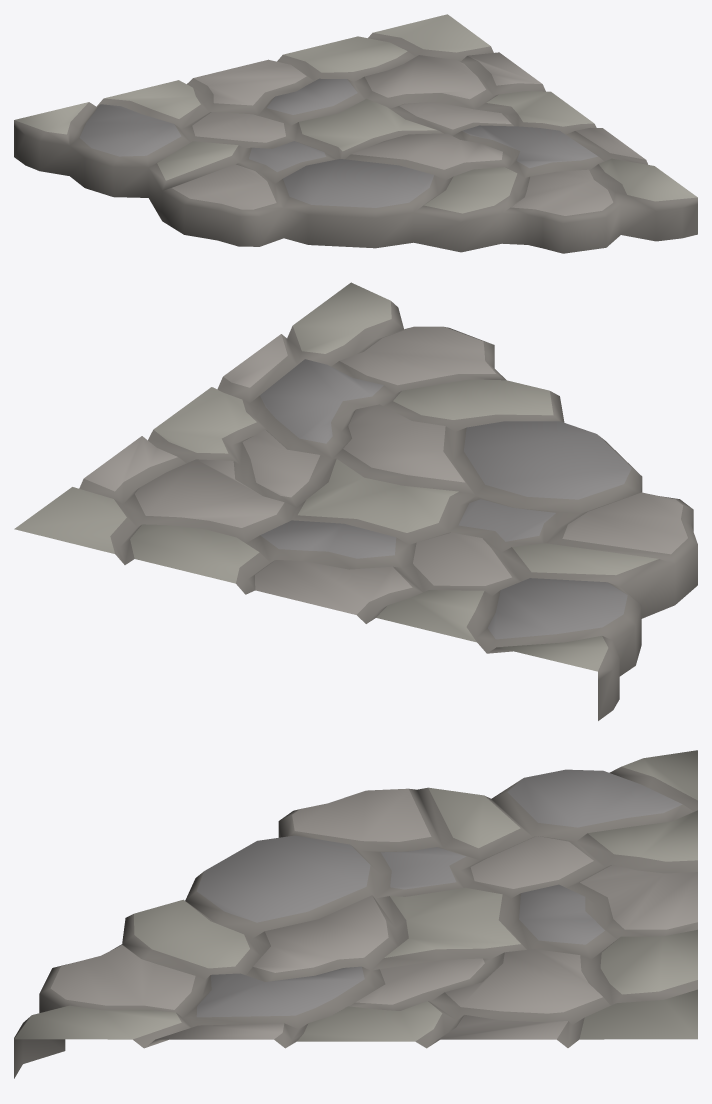
The model's file is rpgpp_ag_floor_03a_3x3_ext_01_left.fbx.
The picture shows the model from 3 angles, top to bottom: view 1: azimuth 30°, elevation 25°; view 2: azimuth 150°, elevation 25°; view 3: azimuth 270°, elevation 25°; orthographic projection. The views are drawn at different scales.
Visible parts, largest first — view 1: rpgpp_ag_floor_03a_3x3_ext_01_left; view 2: rpgpp_ag_floor_03a_3x3_ext_01_left; view 3: rpgpp_ag_floor_03a_3x3_ext_01_left.
Boxes of the visible parts, bbox=[...] form: rpgpp_ag_floor_03a_3x3_ext_01_left: bbox=[14, 14, 697, 253]; rpgpp_ag_floor_03a_3x3_ext_01_left: bbox=[14, 282, 697, 720]; rpgpp_ag_floor_03a_3x3_ext_01_left: bbox=[14, 750, 697, 1078].
Bounding box in the file's own units: 3 × 0.245 × 3.
